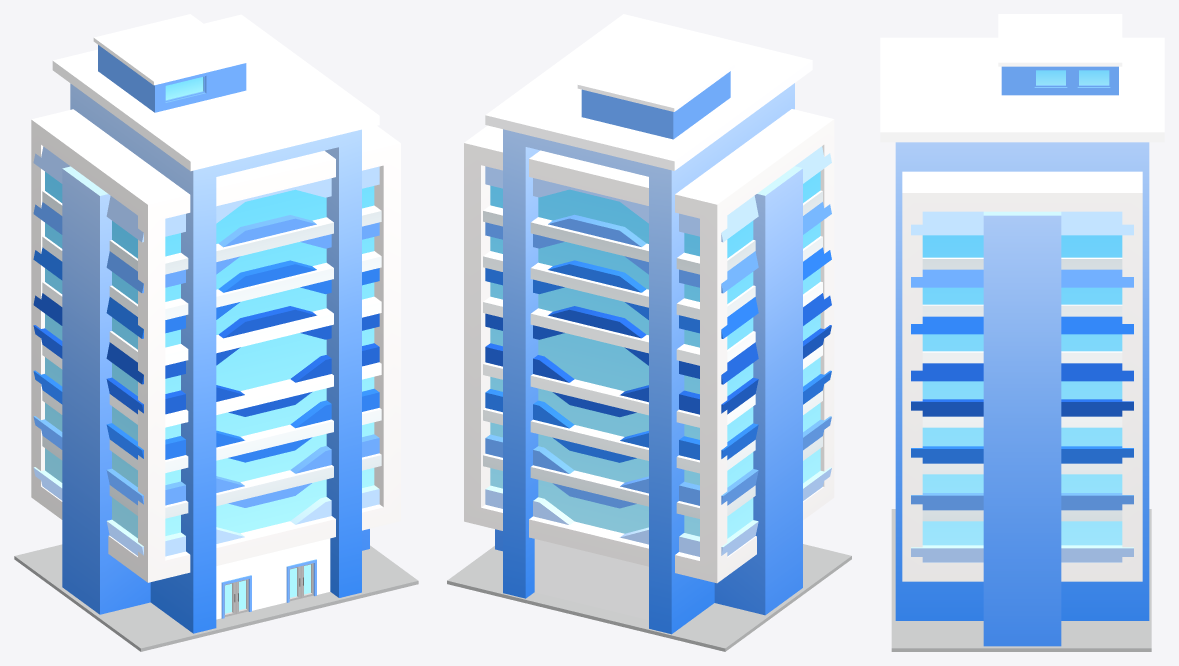
Rendered from Building_Living_57.glb.
3 renders of one model, left to right at view 1: azimuth 30°, elevation 25°; view 2: azimuth 150°, elevation 25°; view 3: azimuth 270°, elevation 25°, orthographic. The views are drawn at different scales.
Visible parts, largest first — view 1: Building_Living_57; view 2: Building_Living_57; view 3: Building_Living_57.
Part boxes in pixels (<box>): Building_Living_57: <box>14,14,418,651</box>; Building_Living_57: <box>447,14,851,651</box>; Building_Living_57: <box>880,14,1164,651</box>.
Size of the model in its own units: 18.71 by 33.26 by 16.12.
Materials: 1 (1 with a texture image).
